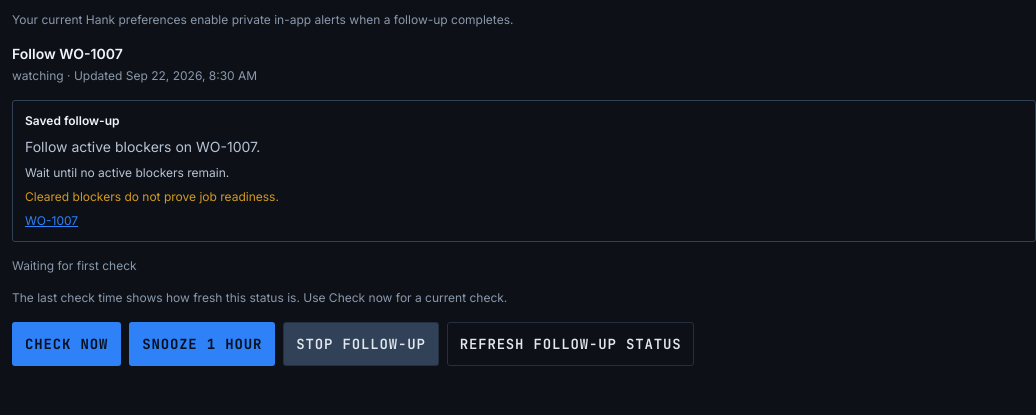
it: HankWatchWorkflow › checks without inventing a completion and shows the actual Central check timestamp
Step 1. Click the button "Check now" → (67, 344), box [12,322,121,366]
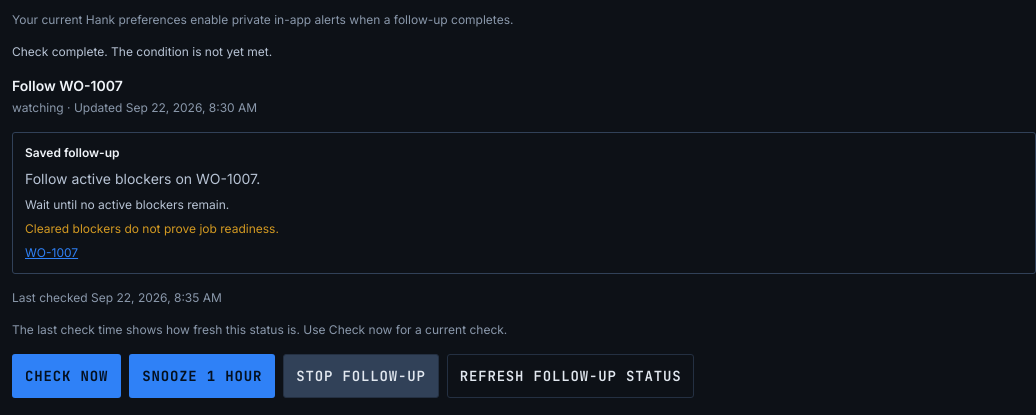
Result: the text "Check complete. The condition is not yet met." is shown at [12,44,272,59]
Result: the text "Waiting for first check" is gone
